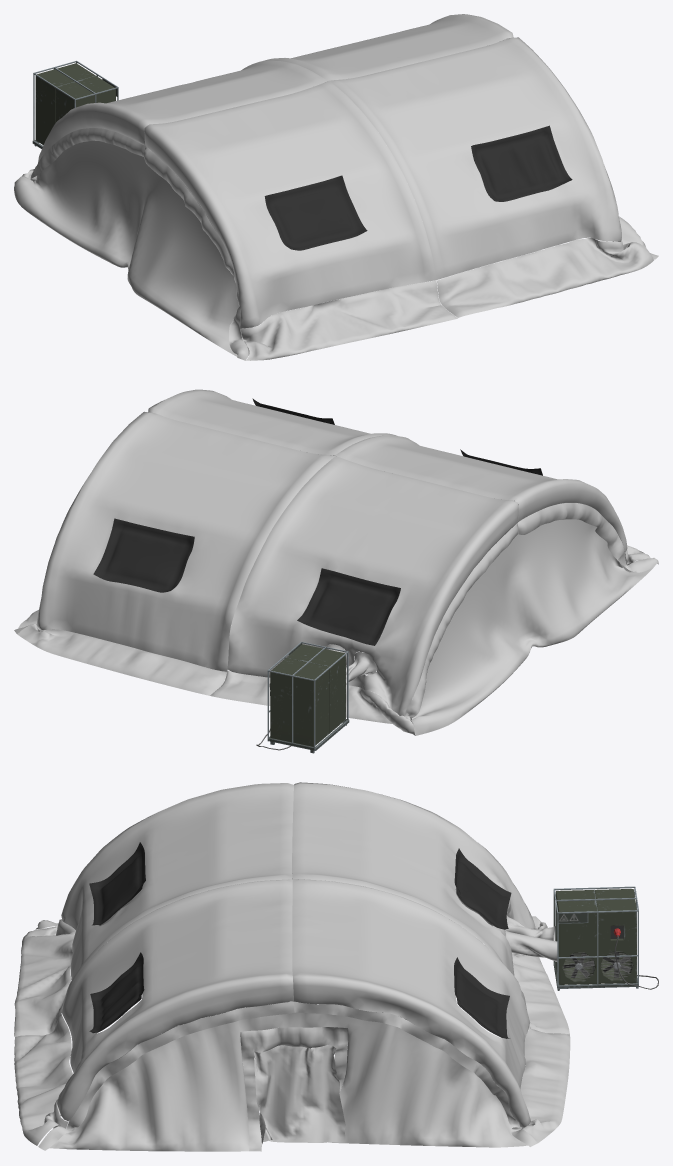
Rendered from uploads_files_2424531_tent_fbx.fbx.
3 renders of one model, top to bottom at view 1: azimuth 30°, elevation 25°; view 2: azimuth 150°, elevation 25°; view 3: azimuth 270°, elevation 25°, orthographic. The views are drawn at different scales.
Parts seen in each view (by area): view 1: wecw:polySurface41, wecw:polySurface44, wecw:polySurface26, wecw:polySurface39, wecw:polySurface34, wecw:polySurface36, wecw:polySurface38, wecw:polySurface43, wecw:polySurface29, polySurface18, wecw:polySurface33, wecw:polySurface31 (+1 smaller); view 2: wecw:polySurface38, wecw:polySurface39, wecw:polySurface26, wecw:polySurface41, wecw:polySurface44, polySurface18, wecw:polySurface45, wecw:polySurface30, wecw:polySurface32, wecw:polySurface40, wecw:polySurface33, wecw:polySurface31 (+2 smaller); view 3: wecw:polySurface27, wecw:polySurface38, wecw:polySurface44, wecw:polySurface41, wecw:polySurface39, ds, polySurface18, wecw:polySurface36, wecw:polySurface34, wecw:polySurface45, wecw:polySurface28, wecw:polySurface35 (+9 smaller).
Part boxes in pixels (left/top/right/bottom): wecw:polySurface41: left=144, top=81, right=436, bottom=328; wecw:polySurface44: left=329, top=37, right=621, bottom=279; wecw:polySurface26: left=14, top=140, right=249, bottom=360; wecw:polySurface39: left=38, top=60, right=327, bottom=162; wecw:polySurface34: left=437, top=238, right=653, bottom=317; wecw:polySurface36: left=241, top=280, right=457, bottom=360; wecw:polySurface38: left=263, top=14, right=513, bottom=80; wecw:polySurface43: left=471, top=125, right=572, bottom=201; wecw:polySurface29: left=264, top=175, right=367, bottom=250; polySurface18: left=35, top=63, right=115, bottom=145; wecw:polySurface33: left=143, top=146, right=248, bottom=360; wecw:polySurface31: left=26, top=128, right=145, bottom=184; wecw:polySurface38: left=36, top=411, right=334, bottom=671; wecw:polySurface39: left=227, top=456, right=518, bottom=715; wecw:polySurface26: left=405, top=502, right=656, bottom=735; wecw:polySurface41: left=335, top=435, right=627, bottom=552; wecw:polySurface44: left=148, top=389, right=396, bottom=455; polySurface18: left=270, top=644, right=345, bottom=746; wecw:polySurface45: left=17, top=624, right=226, bottom=695; wecw:polySurface30: left=93, top=518, right=194, bottom=592; wecw:polySurface32: left=297, top=568, right=400, bottom=645; wecw:polySurface40: left=210, top=670, right=415, bottom=735; wecw:polySurface33: left=517, top=503, right=658, bottom=572; wecw:polySurface31: left=404, top=523, right=517, bottom=731; wecw:polySurface27: left=39, top=1002, right=527, bottom=1151; wecw:polySurface38: left=292, top=879, right=530, bottom=1128; wecw:polySurface44: left=57, top=879, right=293, bottom=1121; wecw:polySurface41: left=61, top=783, right=293, bottom=1007; wecw:polySurface39: left=292, top=782, right=535, bottom=1009; ds: left=253, top=1045, right=345, bottom=1143; polySurface18: left=555, top=889, right=637, bottom=984; wecw:polySurface36: left=14, top=919, right=75, bottom=1036; wecw:polySurface34: left=14, top=1013, right=72, bottom=1145; wecw:polySurface45: left=520, top=1026, right=570, bottom=1142; wecw:polySurface28: left=240, top=1027, right=348, bottom=1151; wecw:polySurface35: left=38, top=1001, right=294, bottom=1150.
Size of the model in its own units: 92.13 by 30.03 by 109.
